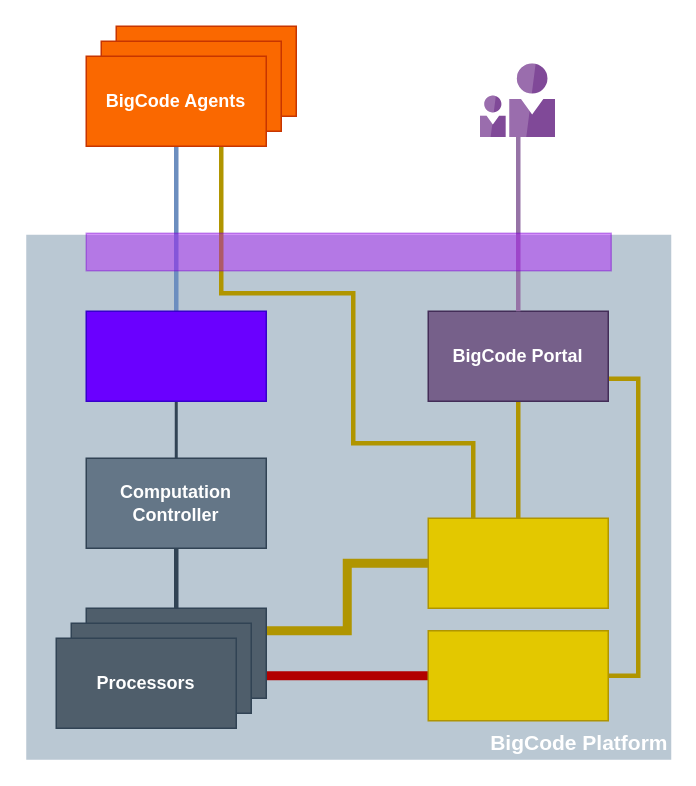
This 696x786 diagram has some shape labels left out. Here are the shapes that lost their labels. From the top down, the centre of each, then its label:
At pixel 348 251: "API Gateway".
At pixel 175 355: "BigCode Service".
At pixel 517 562: "Source Code Repository".
At pixel 517 675: "Models Repository".
